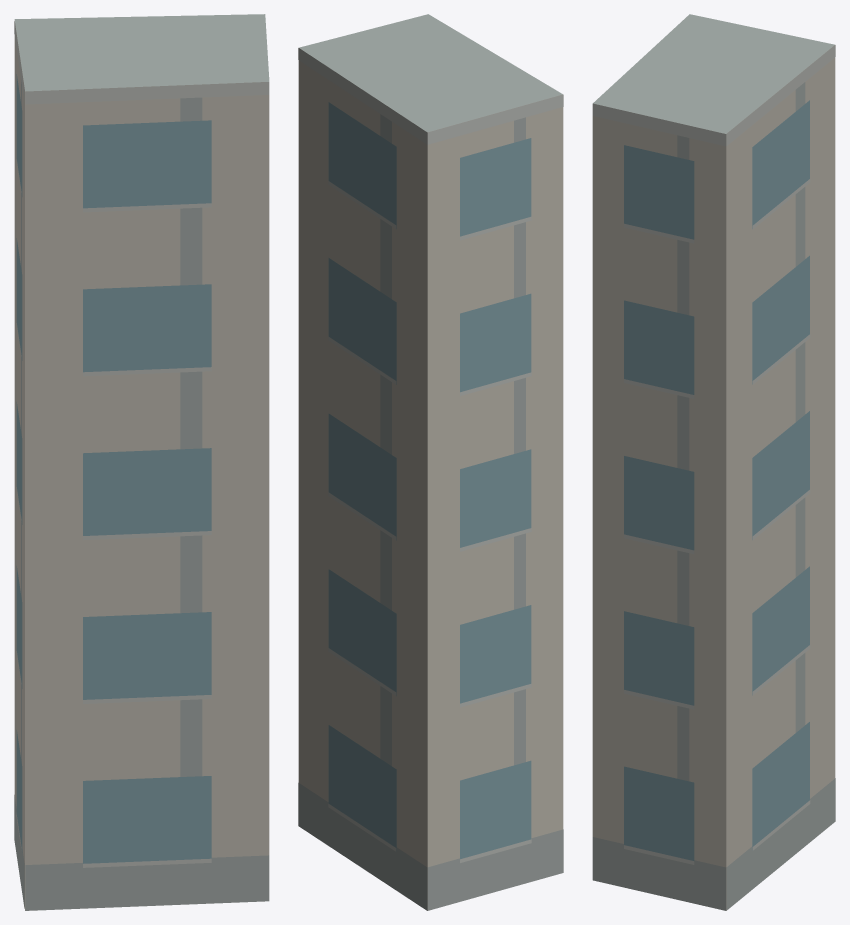
Rendered from survey-upis-32774087.glb.
3 renders of one model, left to right at view 1: azimuth 30°, elevation 25°; view 2: azimuth 150°, elevation 25°; view 3: azimuth 270°, elevation 25°, orthographic. The views are drawn at different scales.
Visible parts, largest first — view 1: survey-upis-32774087.tmp; view 2: survey-upis-32774087.tmp; view 3: survey-upis-32774087.tmp.
Boxes of the visible parts, x1=… form: survey-upis-32774087.tmp: x1=14, y1=14, x2=269, y2=910; survey-upis-32774087.tmp: x1=298, y1=14, x2=563, y2=910; survey-upis-32774087.tmp: x1=592, y1=14, x2=835, y2=910.
Bounding box in the file's own units: 5.06 × 15.25 × 4.33.
